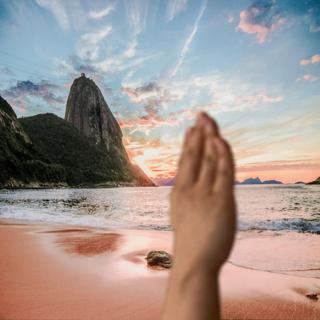RIGHT: (165, 106, 241, 275)
